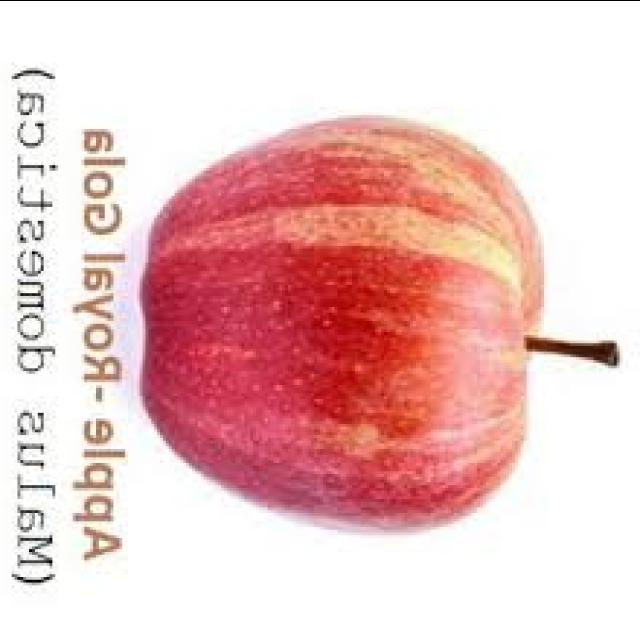apple: (127, 86, 566, 537)
